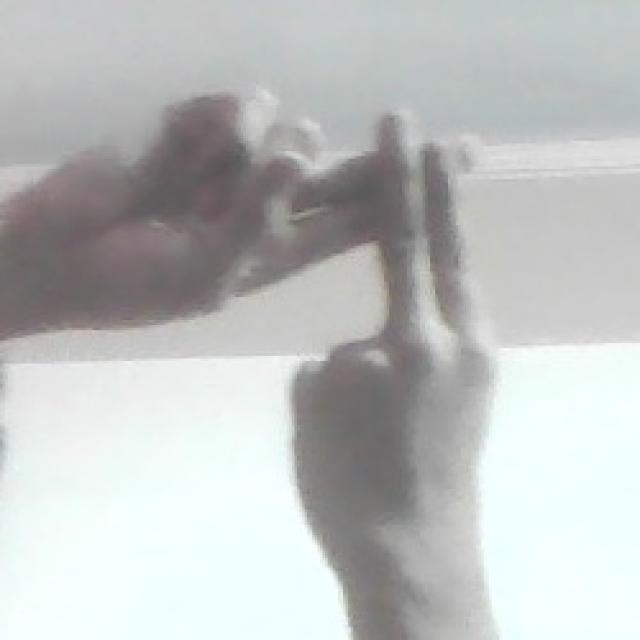Alphabet-F: (7, 78, 533, 516)
